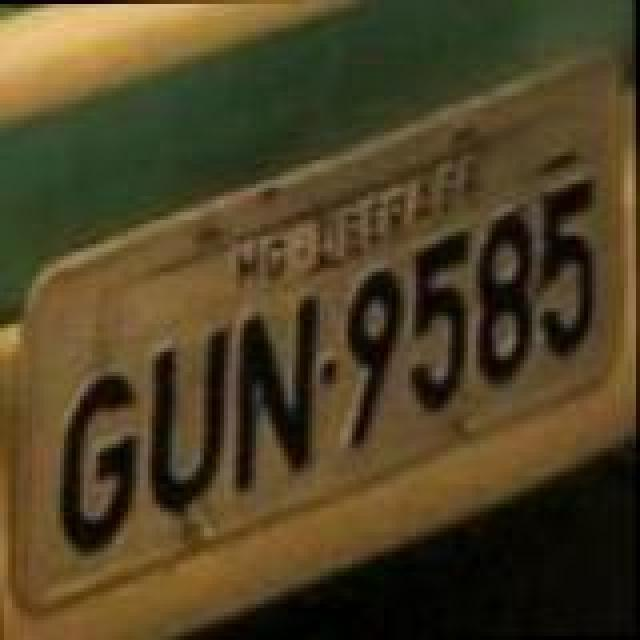5: (534, 176, 606, 360), (408, 228, 476, 416)
8: (468, 204, 536, 380)
9: (338, 268, 410, 452)
G: (54, 366, 146, 554)
N: (232, 290, 328, 494)
U: (146, 324, 238, 512)
